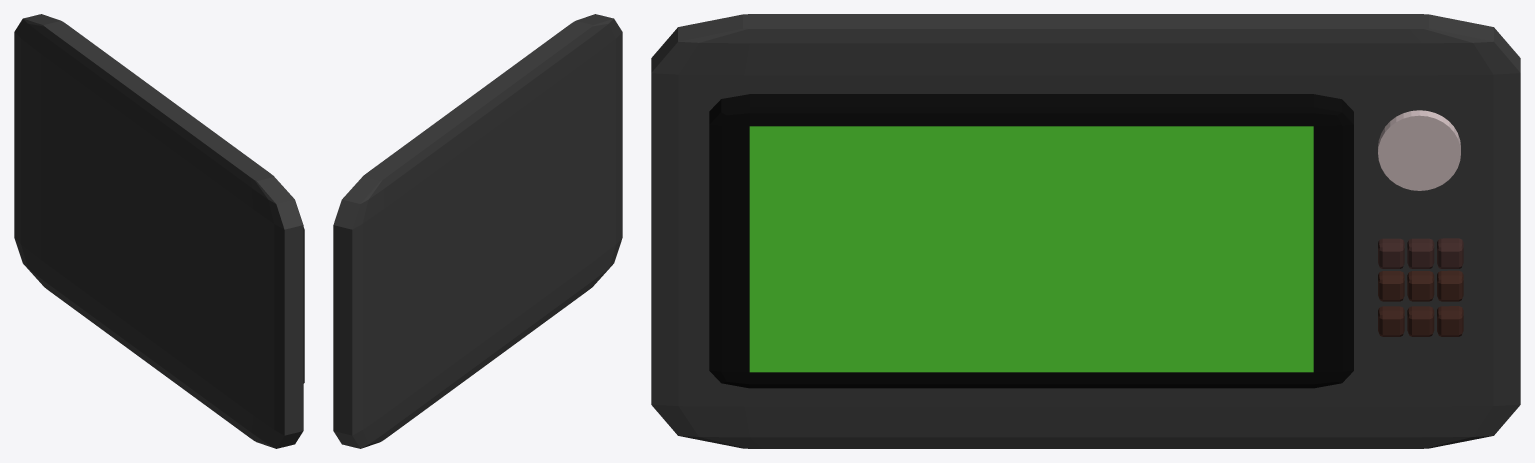
File: TerminalThree.fbx
The picture shows the model from 3 angles, left to right: view 1: azimuth 30°, elevation 25°; view 2: azimuth 150°, elevation 25°; view 3: azimuth 270°, elevation 25°; orthographic projection. The views are drawn at different scales.
Parts seen in each view (by area): view 1: Device, SurroundScreen; view 2: Device; view 3: Device, Screen, SurroundScreen, Button, KeypadsMiddle, KeypadsBottom, KeypadsTop.
Part boxes in pixels (x1,y1,x2,y2): Device: [14, 14, 303, 448]; SurroundScreen: [303, 227, 304, 383]; Device: [333, 14, 622, 448]; Device: [651, 14, 1520, 448]; Screen: [749, 126, 1313, 372]; SurroundScreen: [709, 94, 1353, 388]; Button: [1378, 110, 1460, 190]; KeypadsMiddle: [1378, 270, 1463, 301]; KeypadsBottom: [1378, 306, 1463, 336]; KeypadsTop: [1378, 238, 1463, 268].
Size of the model in its own units: 16.03 by 93.86 by 176.
